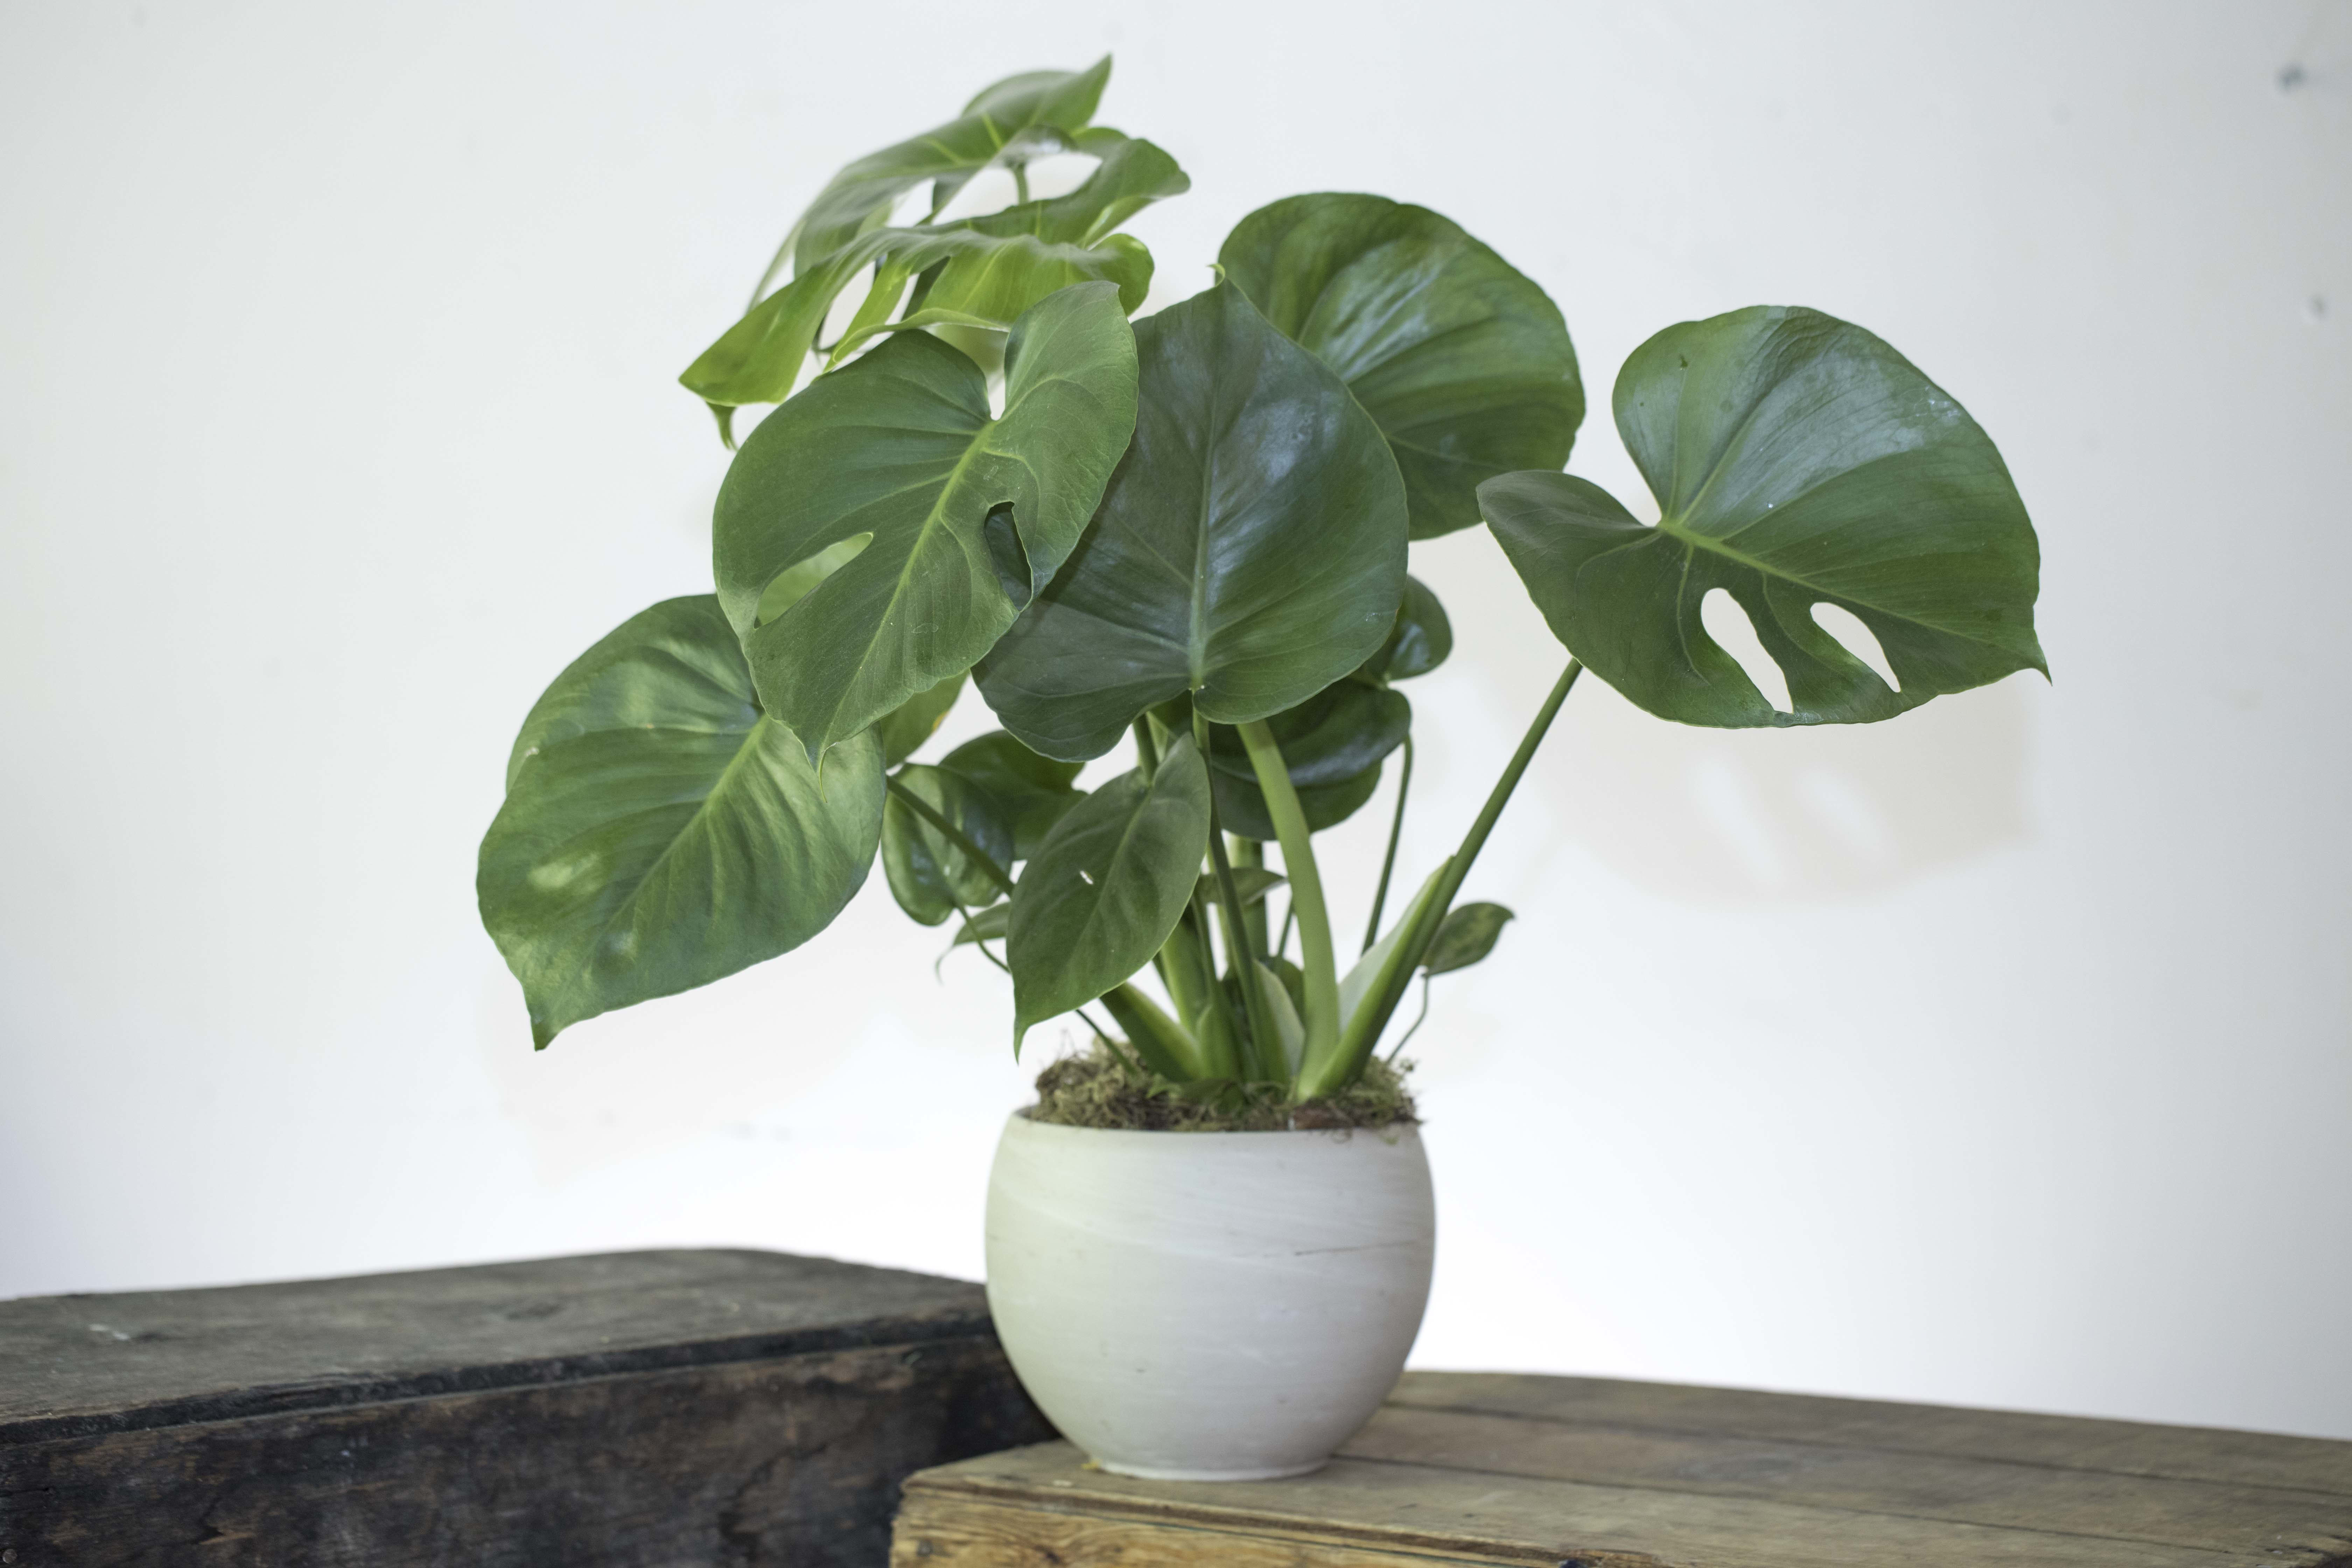tanaman: (443, 100, 2030, 1528)
